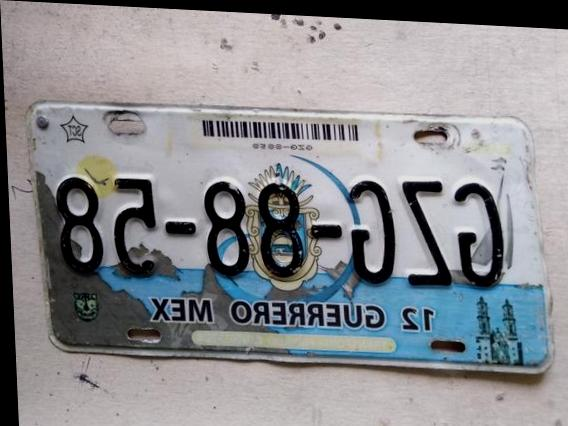License_Plate: (35, 88, 548, 377)
